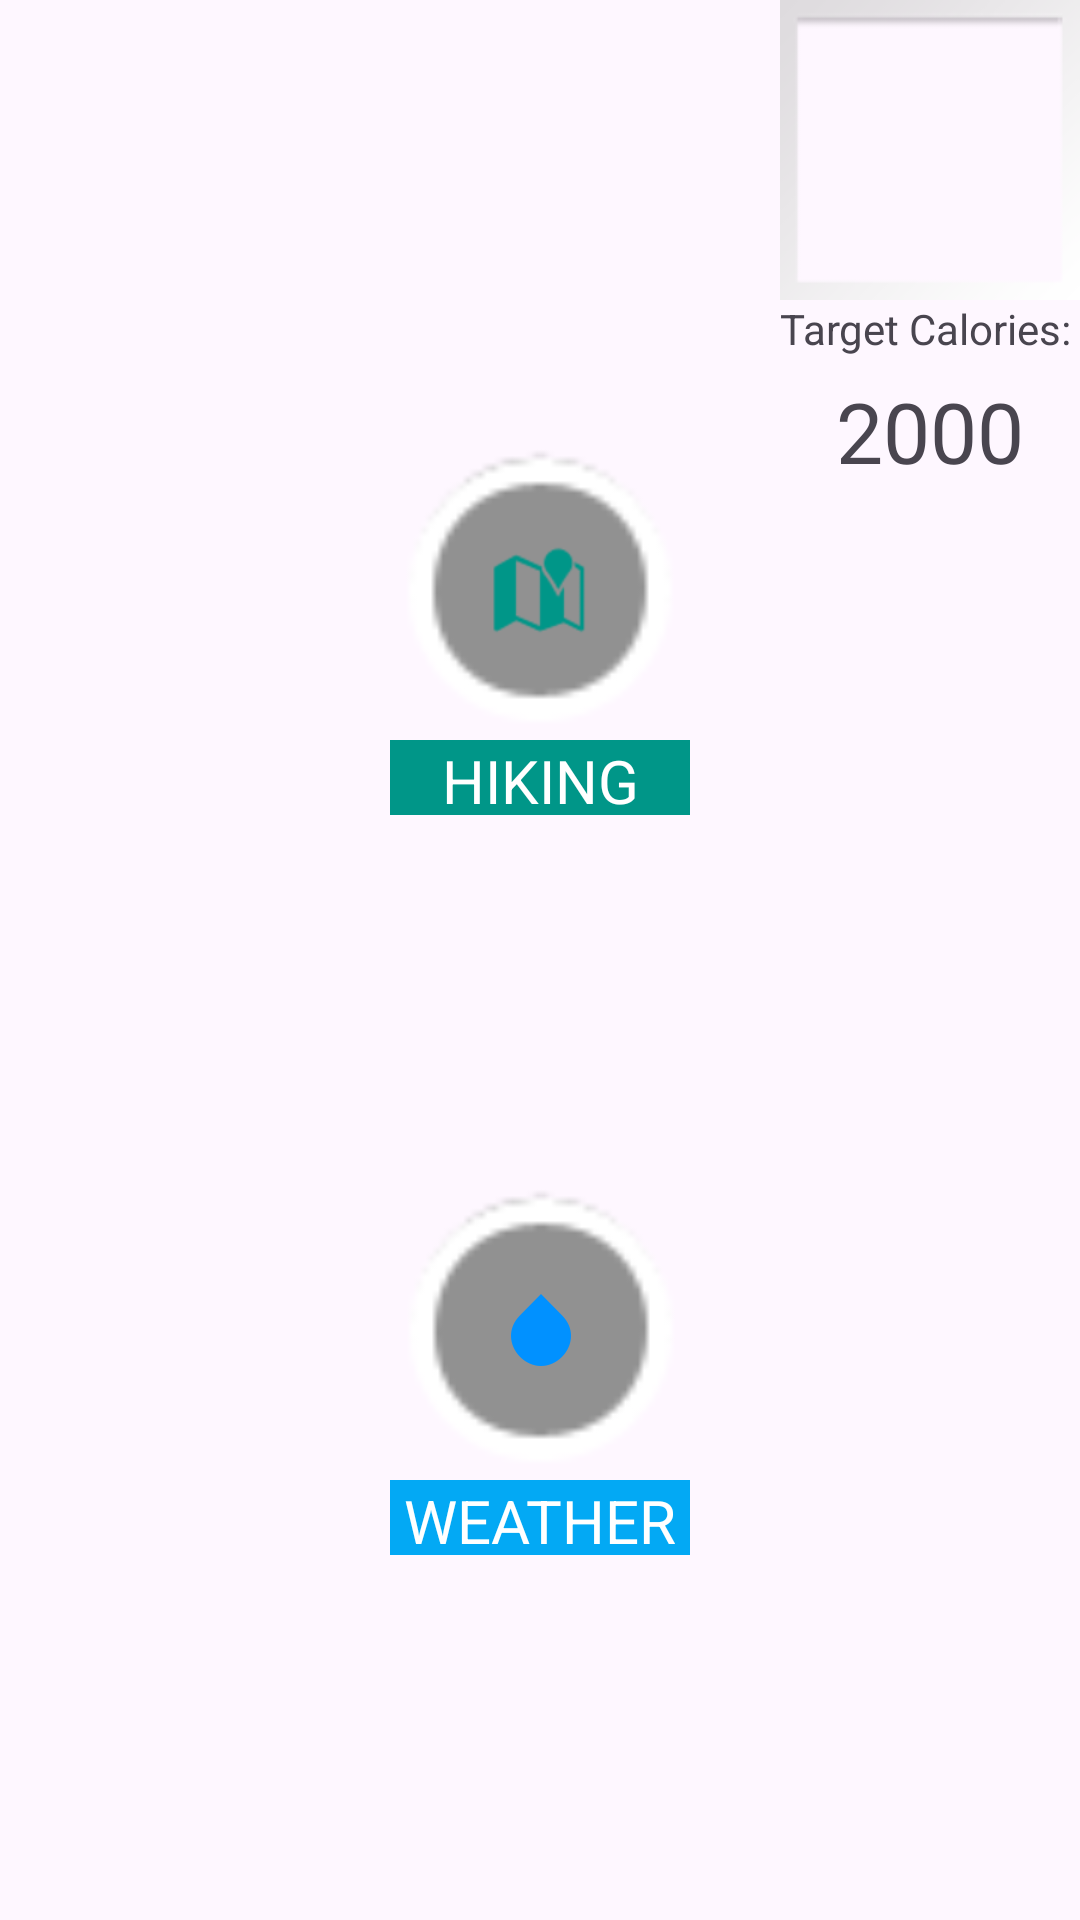

Locate icon controls on the screen. Image size 1080 × 1920, boxes as (x1, y1, x2, y2).
map: (432, 460, 648, 698)
